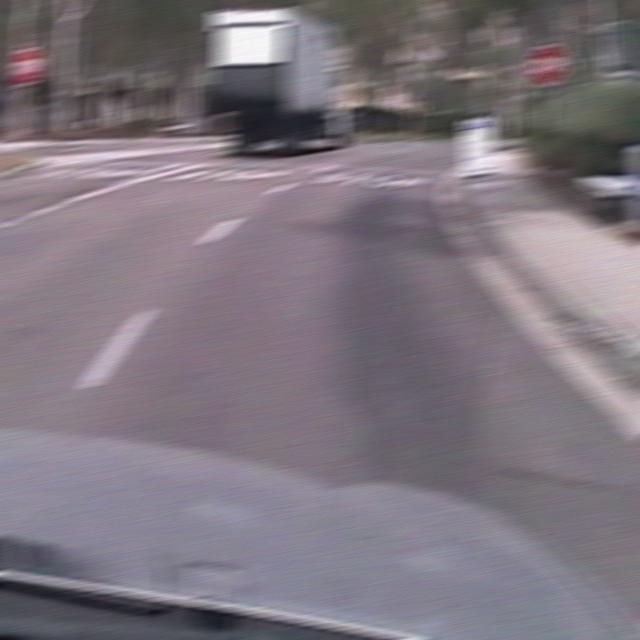stop_sign: (528, 43, 566, 86), (8, 47, 44, 85)
